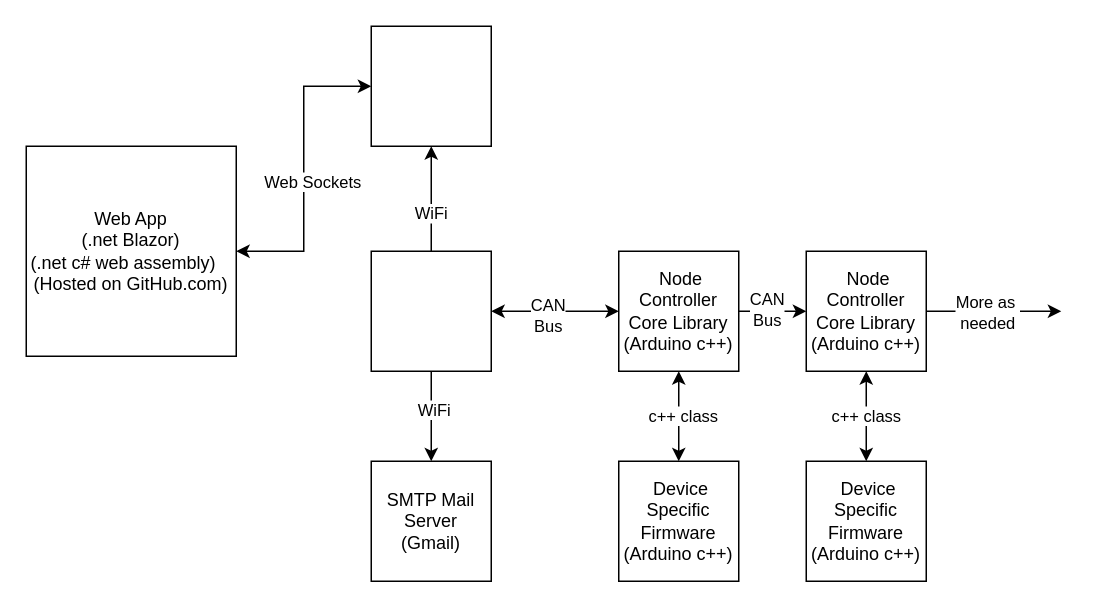
Some shapes in this 1100 by 608 pixel diagram are drawn without their labels. The centre of each missing label's shape, as x and y in pixels:
"Base Station Firmware (Arduino c++)" belongs at (430,310).
"MQTT Broker (Hivemq.com)" belongs at (430,85).
